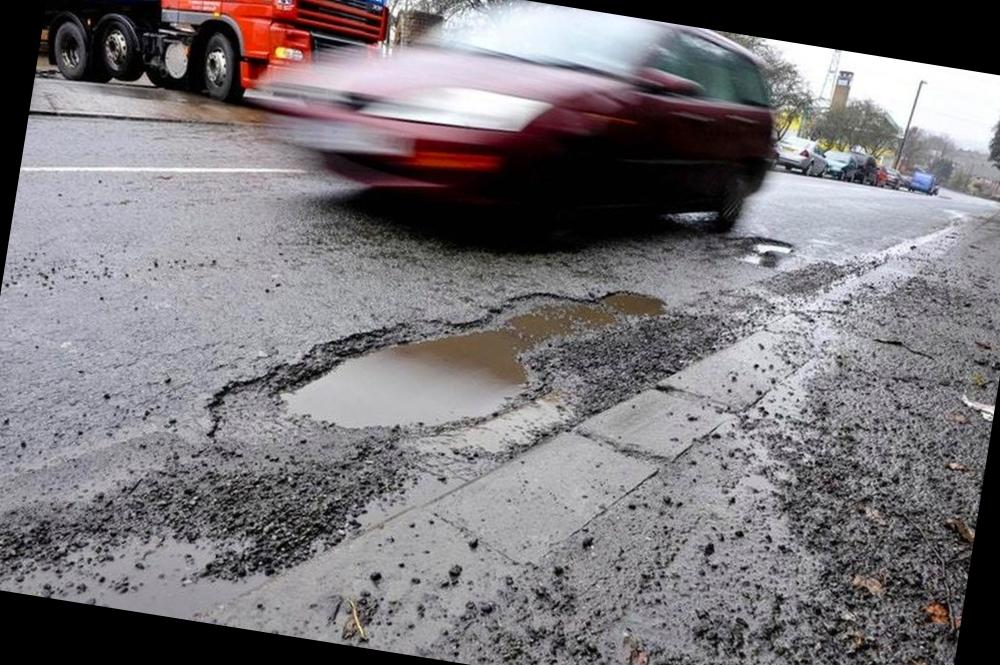pothole: (220, 218, 672, 488), (710, 224, 806, 284)
